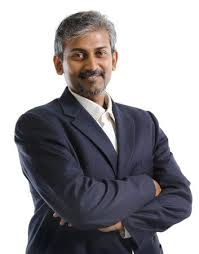Indian_Male: (57, 21, 120, 93)
